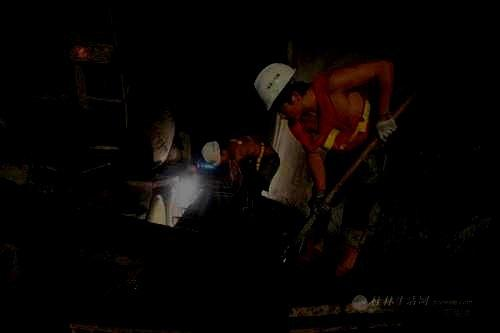helmet: (254, 63, 313, 121), (201, 140, 232, 167)
